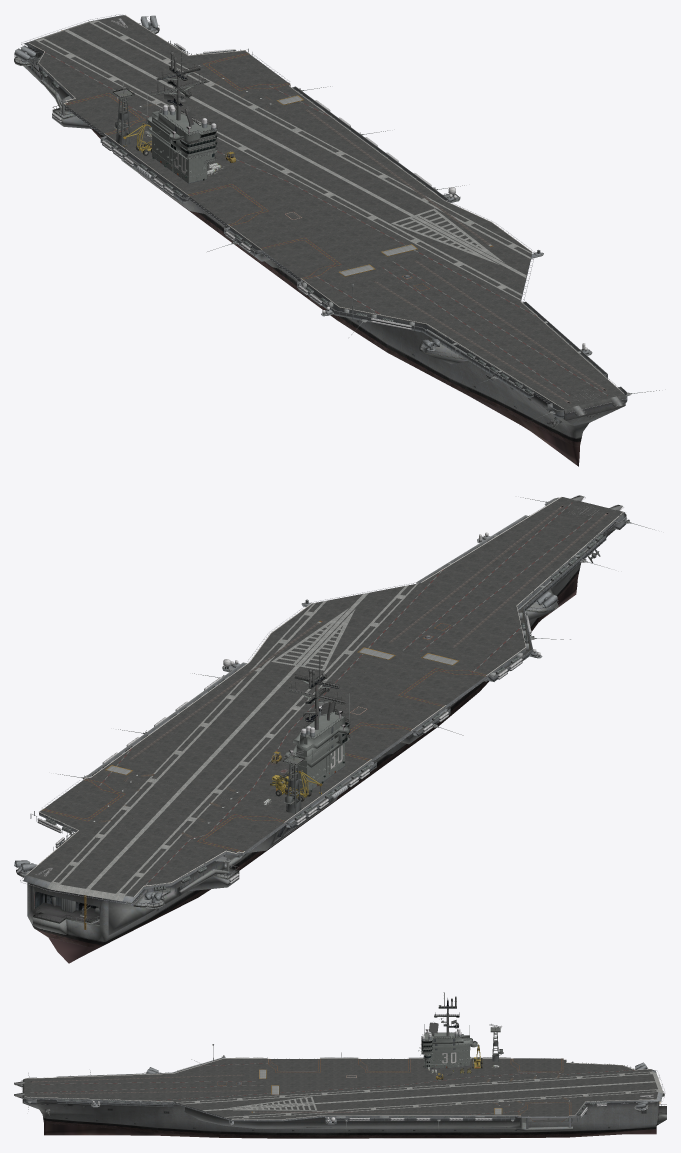
The model's file is ofs_kestrel.glb.
The picture shows the model from 3 angles, top to bottom: view 1: azimuth 30°, elevation 25°; view 2: azimuth 150°, elevation 25°; view 3: azimuth 270°, elevation 25°; orthographic projection. The views are drawn at different scales.
Visible parts, largest first — view 1: mesh_id198_14, mesh_id213_29, mesh_id199_15, mesh_id200_16, mesh_id195_12, mesh_id202_18, mesh_id212_28, mesh_id193_10, mesh_id211_27, mesh_id221_37, mesh_id184_1, mesh_id190_7 (+2 smaller); view 2: mesh_id198_14, mesh_id213_29, mesh_id199_15, mesh_id200_16, mesh_id202_18, mesh_id195_12, mesh_id212_28, mesh_id193_10, mesh_id211_27, mesh_id221_37, mesh_id190_7, mesh_id184_1 (+2 smaller); view 3: mesh_id198_14, mesh_id213_29, mesh_id199_15, mesh_id200_16, mesh_id202_18, mesh_id195_12, mesh_id212_28, mesh_id219_35, mesh_id220_36, mesh_id211_27, mesh_id184_1, mesh_id193_10 (+4 smaller).
Boxes of the visible parts, x1,y1,x2,y2 form: mesh_id198_14: [29, 15, 625, 413]; mesh_id213_29: [14, 26, 659, 466]; mesh_id199_15: [36, 20, 536, 316]; mesh_id200_16: [21, 14, 626, 415]; mesh_id195_12: [146, 110, 215, 182]; mesh_id202_18: [24, 15, 607, 410]; mesh_id212_28: [34, 41, 623, 408]; mesh_id193_10: [14, 23, 555, 413]; mesh_id211_27: [52, 43, 431, 330]; mesh_id221_37: [297, 281, 533, 397]; mesh_id184_1: [147, 72, 221, 180]; mesh_id190_7: [14, 15, 439, 351]; mesh_id198_14: [27, 497, 624, 896]; mesh_id213_29: [16, 495, 654, 963]; mesh_id199_15: [51, 569, 443, 895]; mesh_id200_16: [20, 495, 625, 929]; mesh_id202_18: [23, 512, 623, 902]; mesh_id195_12: [285, 713, 349, 791]; mesh_id212_28: [32, 497, 622, 891]; mesh_id193_10: [16, 518, 629, 926]; mesh_id211_27: [35, 613, 531, 911]; mesh_id221_37: [488, 534, 606, 681]; mesh_id190_7: [14, 591, 558, 904]; mesh_id184_1: [297, 680, 354, 786]; mesh_id198_14: [22, 1058, 657, 1122]; mesh_id213_29: [14, 1044, 666, 1138]; mesh_id199_15: [152, 1070, 658, 1119]; mesh_id200_16: [15, 1058, 665, 1120]; mesh_id202_18: [24, 1062, 662, 1121]; mesh_id195_12: [422, 1032, 477, 1067]; mesh_id212_28: [26, 1057, 632, 1118]; mesh_id219_35: [325, 1116, 515, 1120]; mesh_id220_36: [56, 1099, 173, 1106]; mesh_id211_27: [177, 1057, 606, 1120]; mesh_id184_1: [418, 1023, 470, 1068]; mesh_id193_10: [142, 1000, 666, 1123].
Size of the model in its own units: 0.512 by 0.3441 by 1.69.
Materials: 59 (59 with a texture image).
